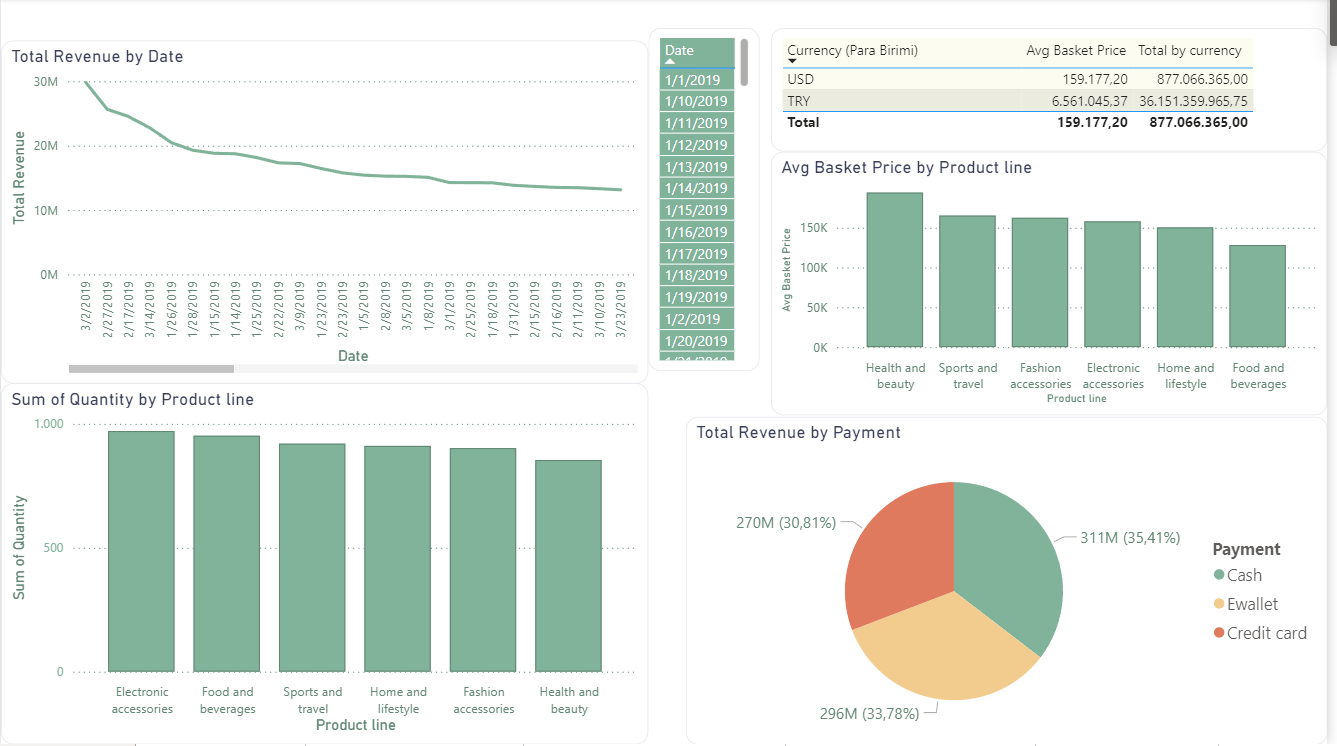

The dashboard page shown, as its layout file describes it:
{"tool":"powerbi","page":{"name":"Dashboard","canvas":[1280,720],"ordinal":6},"visuals":[{"type":"pieChart","title":"Total Revenue by Payment","fields":{"Category":["supermarket_sales - Sheet1.Payment"],"Y":["supermarket_sales - Sheet1.Toplam Gelir"]},"box":[660.7,403.6,619.1,316.7],"z":0},{"type":"clusteredColumnChart","fields":{"Category":["supermarket_sales - Sheet1.Product line"],"Y":["Sum(supermarket_sales - Sheet1.Quantity)"]},"box":[0,371.4,625,348.8],"z":1000},{"type":"lineChart","title":"Total Revenue by Date","fields":{"Category":["supermarket_sales - Sheet1.Date"],"Y":["supermarket_sales - Sheet1.Toplam Gelir"]},"box":[0,40.5,625,331],"z":2000},{"type":"tableEx","fields":{"Values":["supermarket_sales - Sheet1.Date"]},"box":[625,28.6,107.1,331],"z":3000},{"type":"clusteredColumnChart","fields":{"Category":["supermarket_sales - Sheet1.Product line"],"Y":["supermarket_sales - Sheet1.Avg Basket Price"]},"box":[742.9,148.8,536.9,254.8],"z":4000},{"type":"tableEx","fields":{"Values":["Currency.Currency (Para Birimi)","supermarket_sales - Sheet1.Average Price","supermarket_sales - Sheet1.Total by currency"]},"box":[742.9,28.6,536.9,119],"z":5000}]}

Visuals, with their boxes in screenshot pixels (x1, y1, x2, y2), scaled from the page's 1280x720 canvas onto the 1337x746 screenshot:
"Total Revenue by Payment" pieChart: x1=690, y1=418, x2=1336, y2=745
clusteredColumnChart - supermarket_sales - Sheet1.Product line x Sum(supermarket_sales - Sheet1.Quantity): x1=0, y1=385, x2=653, y2=745
"Total Revenue by Date" lineChart: x1=0, y1=42, x2=653, y2=385
tableEx - supermarket_sales - Sheet1.Date: x1=653, y1=30, x2=765, y2=373
clusteredColumnChart - supermarket_sales - Sheet1.Product line x supermarket_sales - Sheet1.Avg Basket Price: x1=776, y1=154, x2=1336, y2=418
tableEx - Currency.Currency (Para Birimi) x supermarket_sales - Sheet1.Average Price: x1=776, y1=30, x2=1336, y2=153
